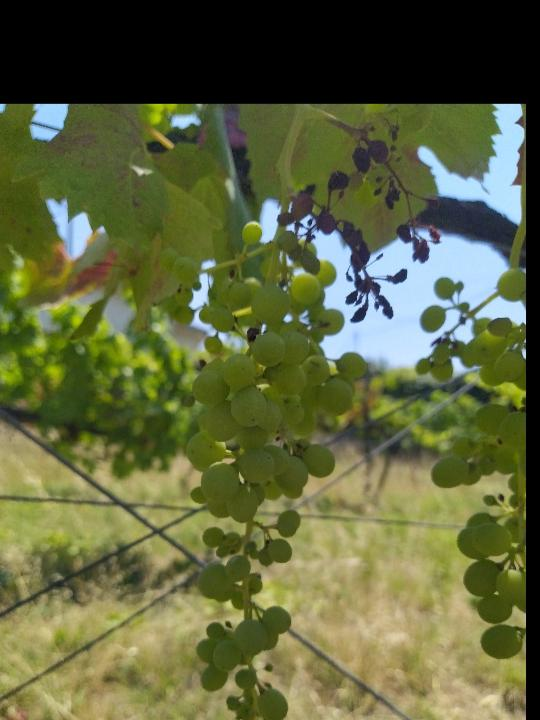grape: (160, 219, 366, 720), (273, 114, 451, 323)
